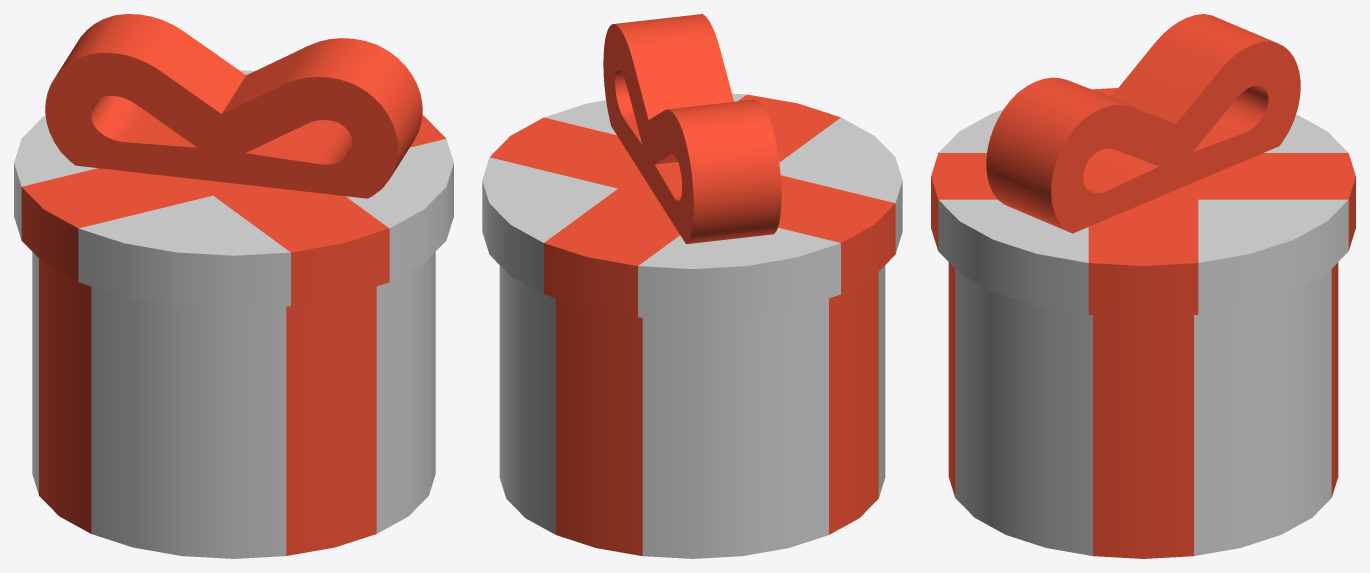
The model's file is presentRound.fbx.
3 renders of one model, left to right at view 1: azimuth 30°, elevation 25°; view 2: azimuth 150°, elevation 25°; view 3: azimuth 270°, elevation 25°, orthographic. The views are drawn at different scales.
Visible parts, largest first — view 1: Group, lid, tie; view 2: Group, lid, tie; view 3: Group, lid, tie.
Part boxes in pixels (left/top/right/bottom): Group: left=32, top=252, right=435, bottom=558; lid: left=14, top=70, right=453, bottom=309; tie: left=45, top=14, right=422, bottom=198; Group: left=499, top=265, right=885, bottom=558; lid: left=482, top=93, right=902, bottom=320; tie: left=603, top=14, right=781, bottom=244; Group: left=948, top=262, right=1338, bottom=558; lid: left=931, top=88, right=1355, bottom=317; tie: left=986, top=14, right=1300, bottom=233.
Size of the model in its own units: 3.61 by 3.87 by 3.61.
